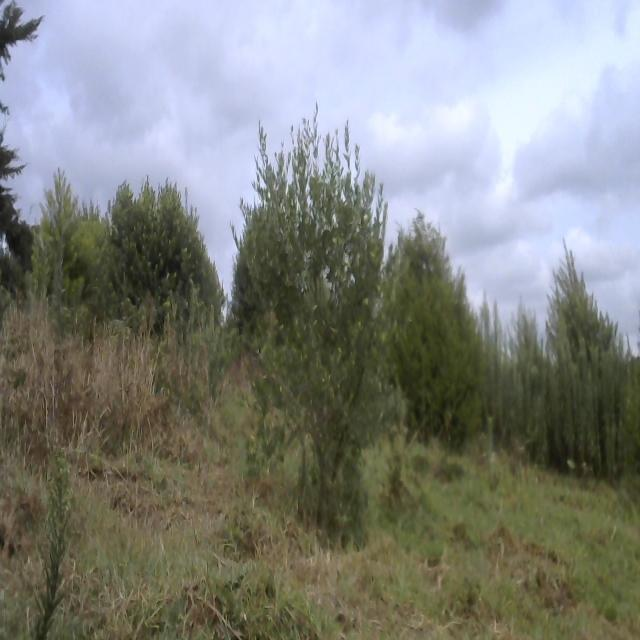Olea europea -africana-: (236, 83, 408, 580)
